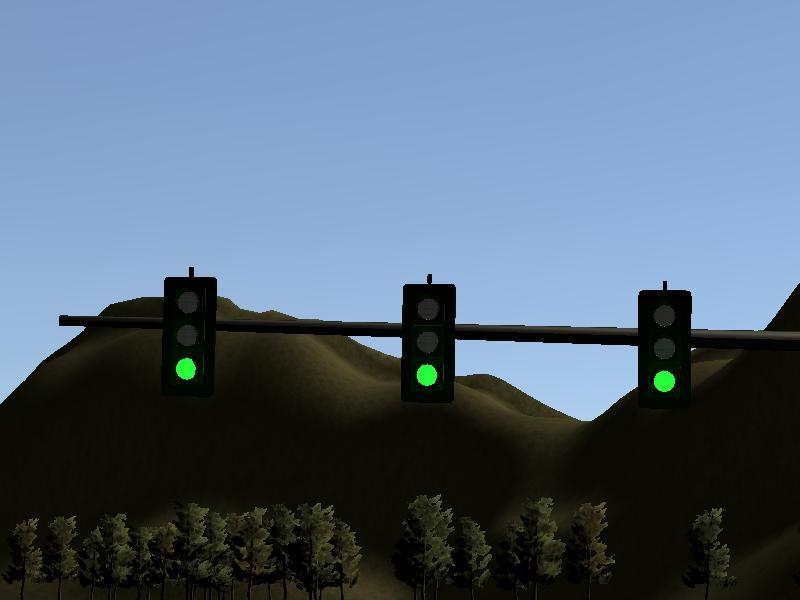Green: (636, 290, 693, 411), (162, 276, 215, 399), (402, 283, 455, 404)
